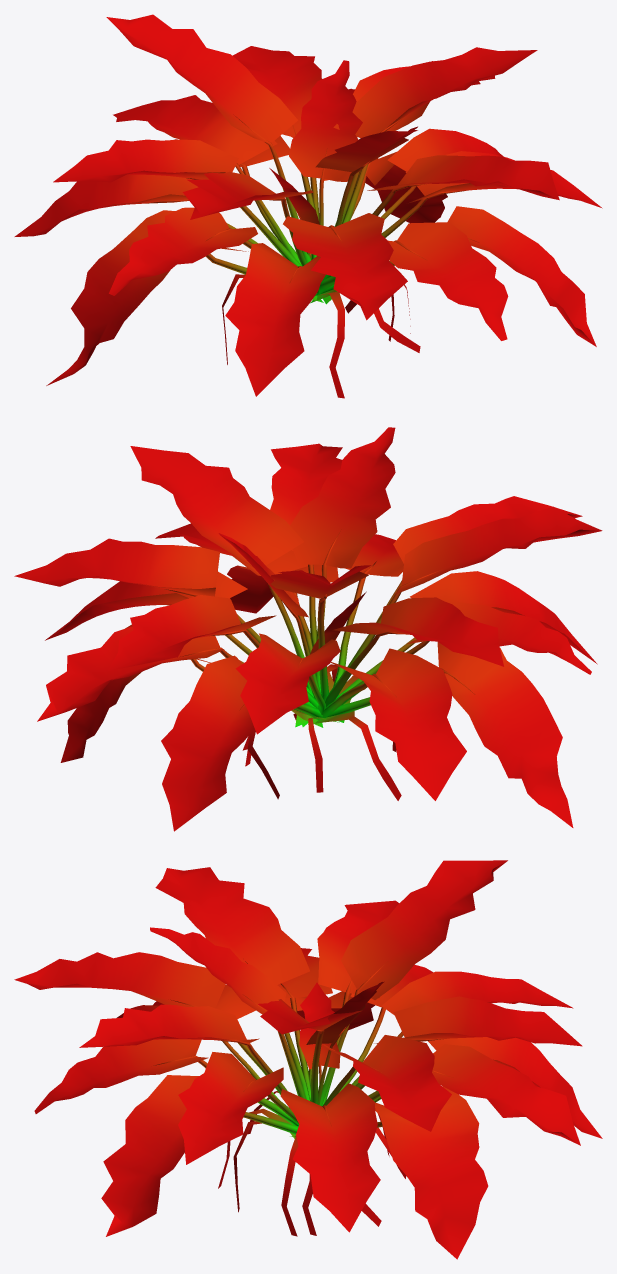
Rendered from Xanadu_LOD0_Var5_siroZ.fbx.
The picture shows the model from 3 angles, top to bottom: view 1: azimuth 30°, elevation 25°; view 2: azimuth 150°, elevation 25°; view 3: azimuth 270°, elevation 25°; orthographic projection. The views are drawn at different scales.
Parts seen in each view (by area): view 1: _c5c7_Var5_LOD0; view 2: _c5c7_Var5_LOD0; view 3: _c5c7_Var5_LOD0.
Boxes of the visible parts, x1,y1,x2,y2 form: _c5c7_Var5_LOD0: [14, 14, 602, 398]; _c5c7_Var5_LOD0: [14, 427, 602, 831]; _c5c7_Var5_LOD0: [14, 860, 602, 1259].
Size of the model in its own units: 66.94 by 36.77 by 68.08.
